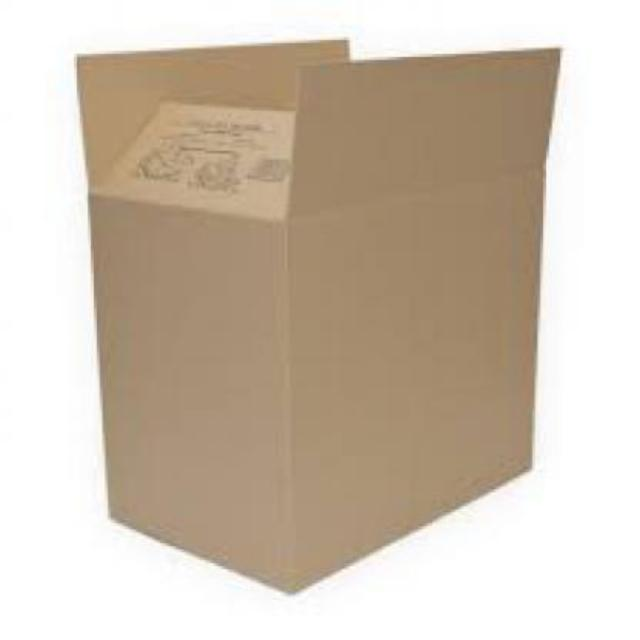cardboard_box: (72, 50, 558, 594)
